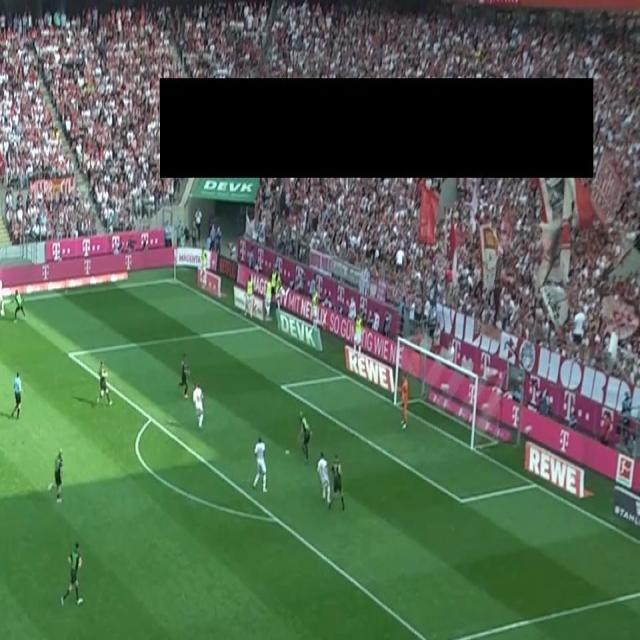ball: (0, 308, 5, 317)
